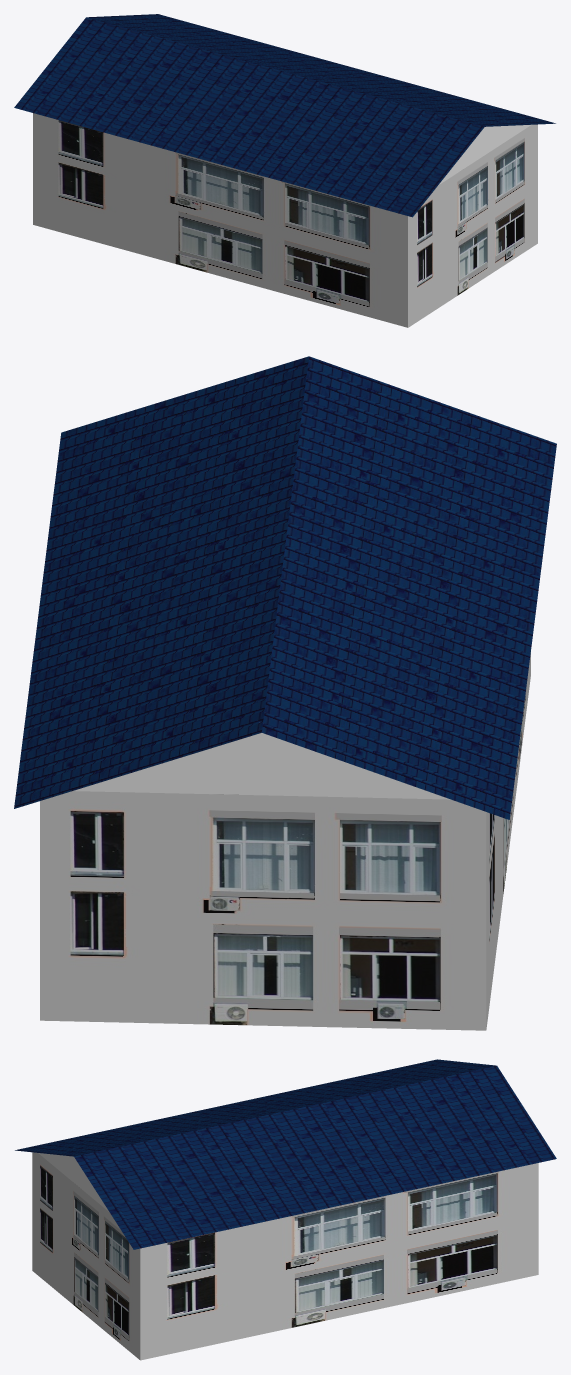
The picture shows the model from 3 angles, top to bottom: view 1: azimuth 30°, elevation 25°; view 2: azimuth 150°, elevation 25°; view 3: azimuth 270°, elevation 25°; orthographic projection. The views are drawn at different scales.
Visible parts, largest first — view 1: CityEngineMaterial_9_m, CityEngineMaterial_6_m, CityEngineMaterial_3_m; view 2: CityEngineMaterial_6_m, CityEngineMaterial_9_m, CityEngineMaterial_3_m; view 3: CityEngineMaterial_9_m, CityEngineMaterial_6_m, CityEngineMaterial_3_m.
Boxes of the visible parts, bbox=[...] form: CityEngineMaterial_9_m: bbox=[33, 113, 537, 327]; CityEngineMaterial_6_m: bbox=[14, 14, 555, 217]; CityEngineMaterial_3_m: bbox=[438, 124, 531, 185]; CityEngineMaterial_6_m: bbox=[14, 356, 556, 819]; CityEngineMaterial_9_m: bbox=[40, 652, 530, 1030]; CityEngineMaterial_3_m: bbox=[73, 733, 450, 799]; CityEngineMaterial_9_m: bbox=[32, 1152, 538, 1360]; CityEngineMaterial_6_m: bbox=[15, 1059, 556, 1249]; CityEngineMaterial_3_m: bbox=[38, 1153, 108, 1211].
Bounding box in the file's own units: 32.12 × 12.72 × 38.69.
